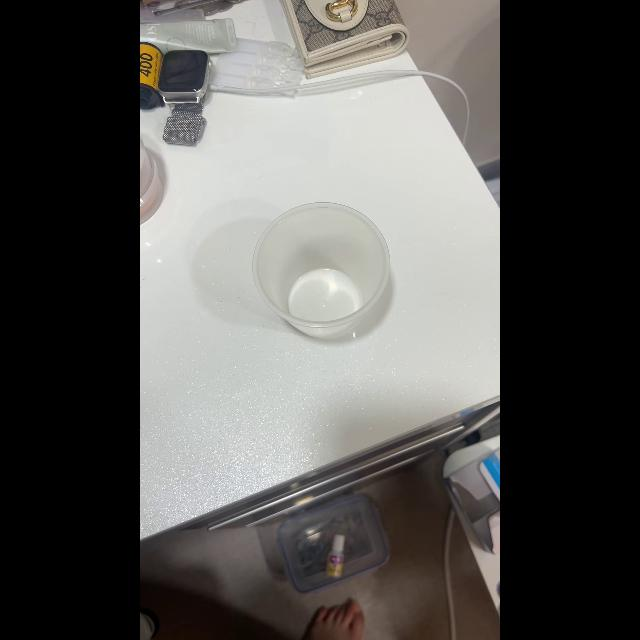clean: (252, 200, 392, 338)
